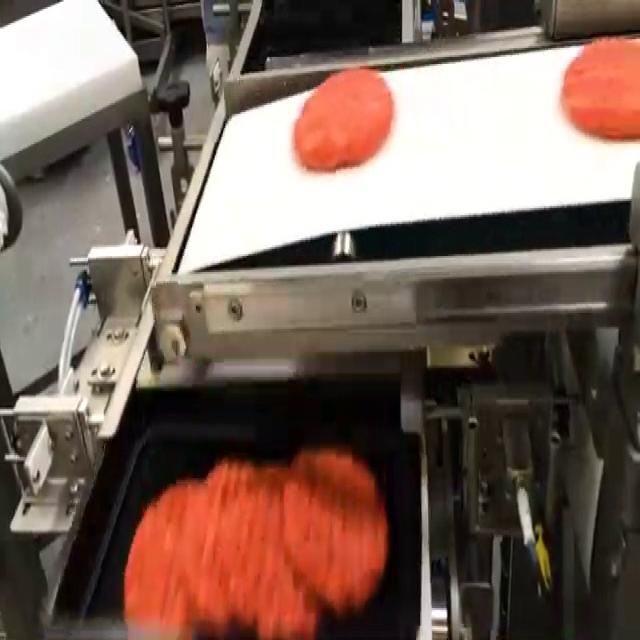hamburguer: (293, 69, 395, 174)
